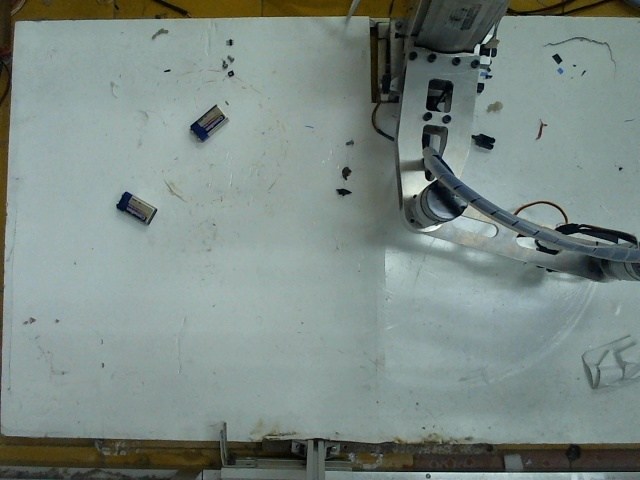battery: (114, 189, 157, 228), (189, 103, 228, 138)
